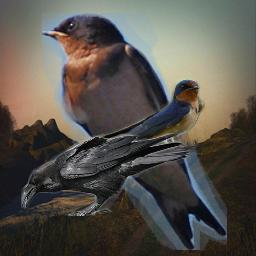Crow: (21, 133, 191, 216)
Swallow: (42, 13, 227, 250), (73, 78, 205, 155)
